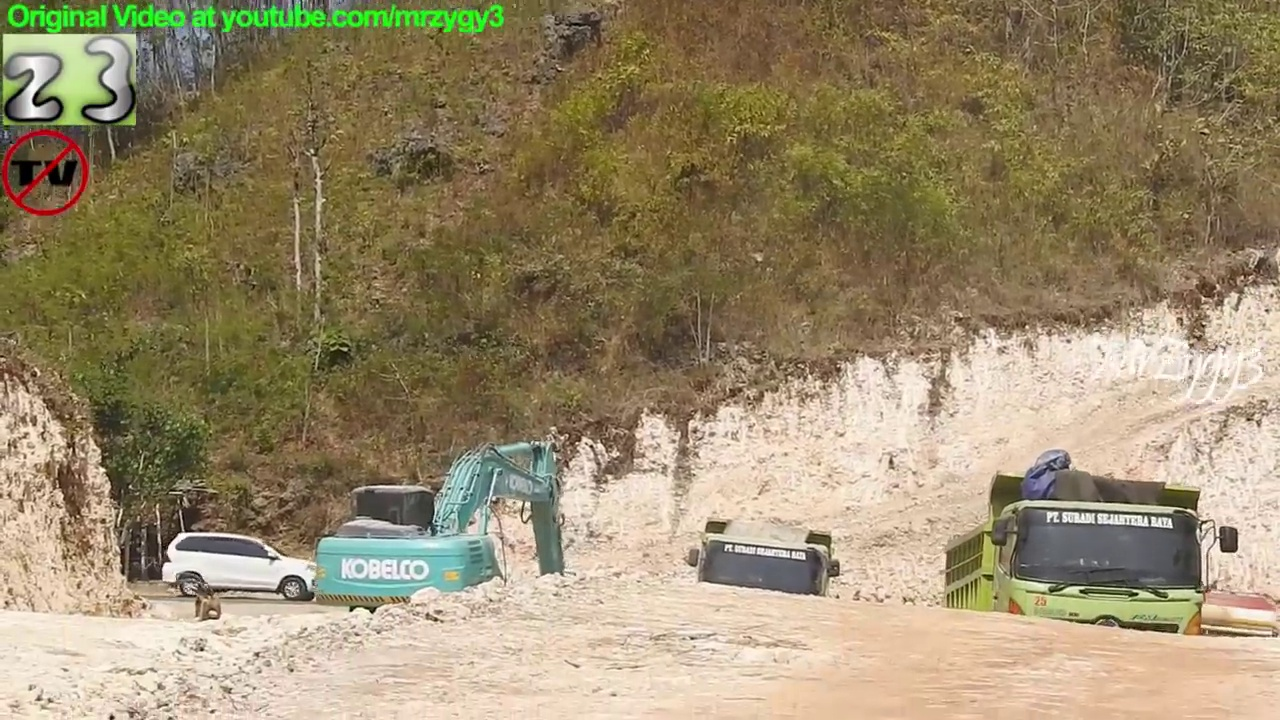excavator: (307, 424, 578, 641), (1034, 568, 1280, 681)
truck: (938, 467, 1244, 698), (681, 512, 846, 658)
